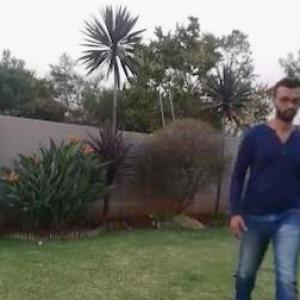follow: (246, 88, 299, 299)
